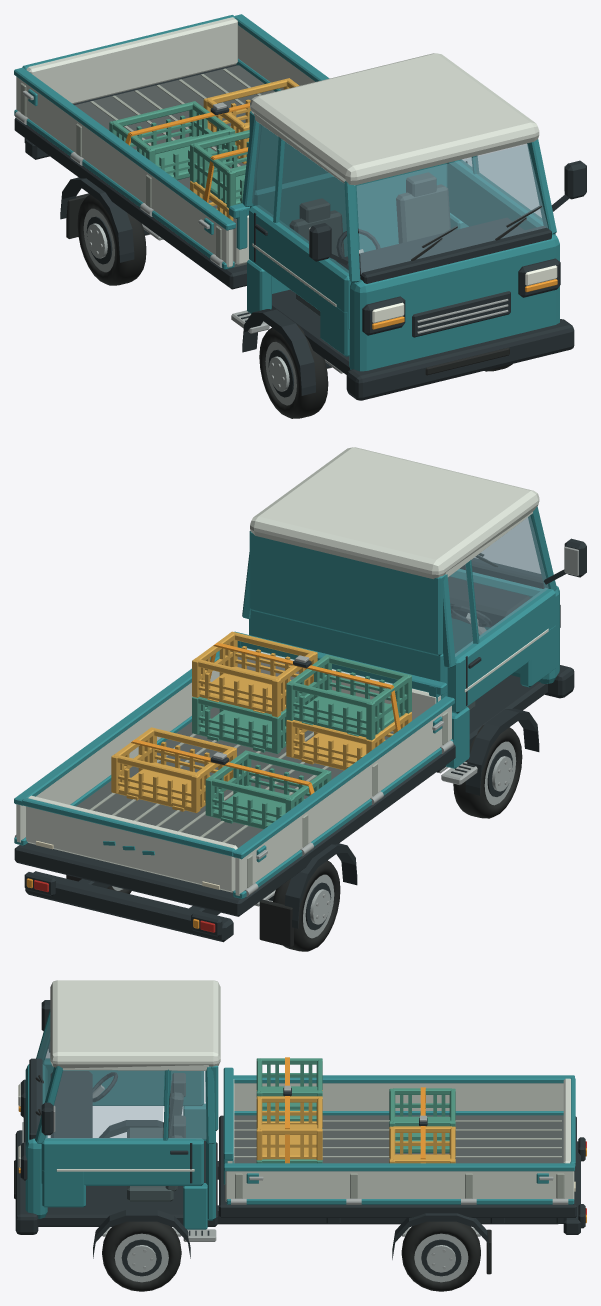
File: market-restock-mini-lorry.glb
3 views of the same model, one above another, from view 1: azimuth 30°, elevation 25°; view 2: azimuth 150°, elevation 25°; view 3: azimuth 270°, elevation 25° (orthographic). The views are drawn at different scales.
Visible parts, largest first — view 1: Teal cab and welded doorway | Marine blue-green painted stee, Teal cab and welded doorway | Porcelain cream cap paint, Safety-glass panes | Cool smoky laminated glazing, Open dropside bed and tie-down points | Porcelain cream cap , Teal cab and welded doorway | Anthracite composite guards, Open dropside bed and tie-down points | Marine blue-green pa, Open dropside bed and tie-down points | Textured dark cargo , Cab interior | Anthracite composite guards, Cab interior | Graphite woven seat material, Chassis and suspension | Anthracite composite guards, Slatted crate C lower, Open dropside bed and tie-down points | Anthracite composite (+13 smaller); view 2: Teal cab and welded doorway | Marine blue-green painted stee, Teal cab and welded doorway | Porcelain cream cap paint, Open dropside bed and tie-down points | Porcelain cream cap , Open dropside bed and tie-down points | Marine blue-green pa, Chassis and suspension | Anthracite composite guards, Open dropside bed and tie-down points | Anthracite composite, Safety-glass panes | Cool smoky laminated glazing, Slatted crate A stacked, Slatted crate D lower, Slatted crate B stacked, Open dropside bed and tie-down points | Textured dark cargo , Slatted crate C lower (+11 smaller); view 3: Teal cab and welded doorway | Marine blue-green painted stee, Open dropside bed and tie-down points | Porcelain cream cap , Teal cab and welded doorway | Porcelain cream cap paint, Safety-glass panes | Cool smoky laminated glazing, Open dropside bed and tie-down points | Marine blue-green pa, Open dropside bed and tie-down points | Textured dark cargo , Cab interior | Anthracite composite guards, Chassis and suspension | Anthracite composite guards, Open dropside bed and tie-down points | Anthracite composite, Slatted crate B stacked, Teal cab and welded doorway | Anthracite composite guards, Open dropside bed and tie-down points | Worn light alloy rai (+13 smaller).
Part boxes in pixels (x1,y1,x2,y2): Teal cab and welded doorway | Marine blue-green painted stee: (242,111,559,371); Teal cab and welded doorway | Porcelain cream cap paint: (250,53,539,306); Safety-glass panes | Cool smoky laminated glazing: (252,124,547,273); Open dropside bed and tie-down points | Porcelain cream cap : (16,17,314,267); Teal cab and welded doorway | Anthracite composite guards: (254,160,586,400); Open dropside bed and tie-down points | Marine blue-green pa: (14,14,329,269); Open dropside bed and tie-down points | Textured dark cargo : (75,65,274,267); Cab interior | Anthracite composite guards: (271,217,524,374); Cab interior | Graphite woven seat material: (289,172,450,316); Chassis and suspension | Anthracite composite guards: (24,138,331,395); Slatted crate C lower: (109,101,235,180); Open dropside bed and tie-down points | Anthracite composite: (14,64,246,289); Teal cab and welded doorway | Marine blue-green painted stee: (242,506,559,768); Teal cab and welded doorway | Porcelain cream cap paint: (250,447,548,692); Open dropside bed and tie-down points | Porcelain cream cap : (16,648,451,895); Open dropside bed and tie-down points | Marine blue-green pa: (14,631,454,898); Chassis and suspension | Anthracite composite guards: (24,708,539,942); Open dropside bed and tie-down points | Anthracite composite: (14,744,455,916); Safety-glass panes | Cool smoky laminated glazing: (448,516,548,656); Slatted crate A stacked: (286,654,411,740); Slatted crate D lower: (111,727,236,813); Slatted crate B stacked: (192,631,317,717); Open dropside bed and tie-down points | Textured dark cargo : (31,707,393,892); Slatted crate C lower: (205,750,331,829); Teal cab and welded doorway | Marine blue-green painted stee: (25,1009,218,1229); Open dropside bed and tie-down points | Porcelain cream cap : (225,1078,574,1201); Teal cab and welded doorway | Porcelain cream cap paint: (50,980,220,1171); Safety-glass panes | Cool smoky laminated glazing: (37,1021,206,1138); Open dropside bed and tie-down points | Marine blue-green pa: (223,1067,575,1204); Open dropside bed and tie-down points | Textured dark cargo : (234,1115,563,1163); Cab interior | Anthracite composite guards: (38,1071,217,1226); Chassis and suspension | Anthracite composite guards: (93,1120,585,1259); Open dropside bed and tie-down points | Anthracite composite: (219,1115,576,1217); Slatted crate B stacked: (256,1096,322,1160); Teal cab and welded doorway | Anthracite composite guards: (15,1000,192,1234); Open dropside bed and tie-down points | Worn light alloy rai: (234,1120,564,1198).
Size of the model in its own units: 1.99 by 1.96 by 4.36.
